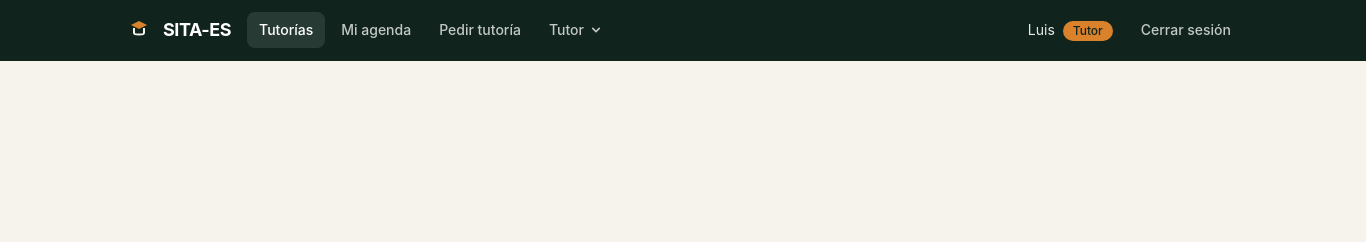
menú del tutor › lo de estudiante va suelto (con «Pedir tutoría») y su panel en el desplegable «Tutor»
Expected: the link "Tutorías" is shown, [247,12,325,48]
Expected: the link "Mi agenda" is shown, [341,21,411,38]
Click the button "Tutor".
click(576, 30)  # box [537,12,616,48]
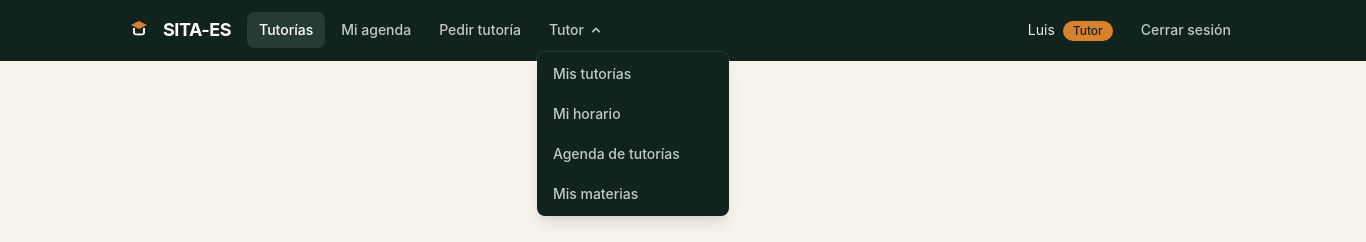
Expected: the link "Mis tutorías" is shown, [553,65,631,82]
Expected: the link "Mi horario" is shown, [553,105,621,122]
Expected: the link "Agenda de tutorías" is shown, [553,145,680,162]
